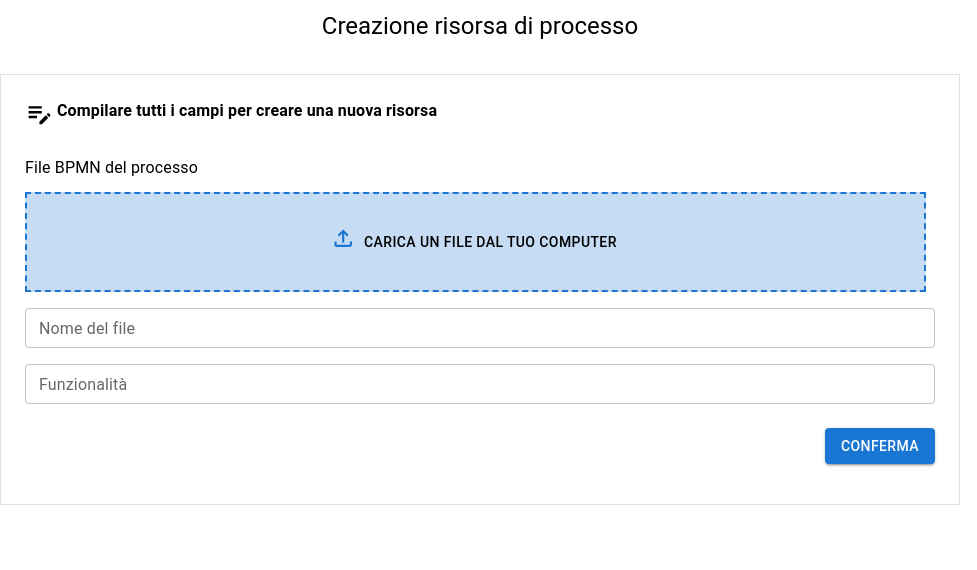
Scenario: CreateBpmn Test › should validate form and display errors when required fields are missing
Click the button "Conferma": (880,446) top-left (825, 428), bottom-right (935, 464)
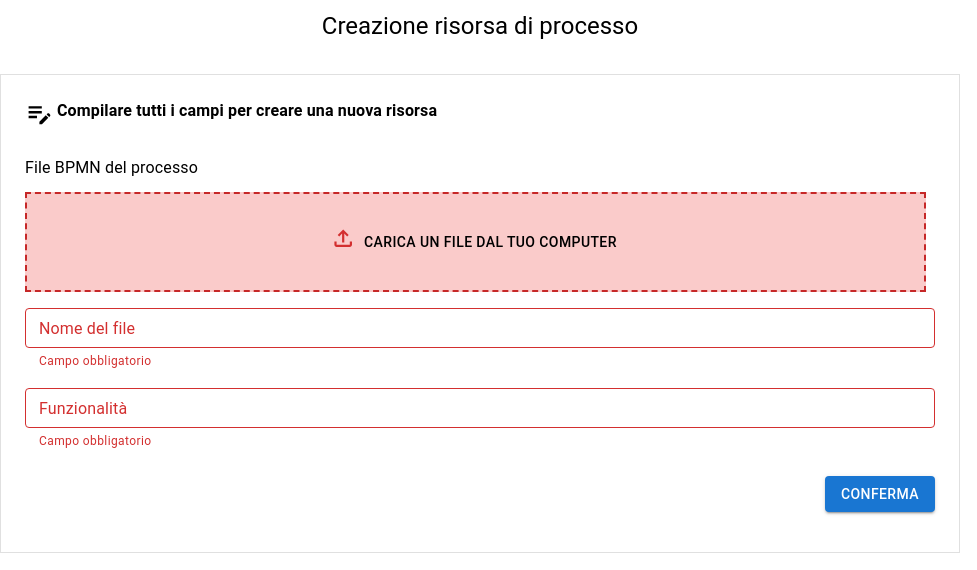
Expected: the text "Campo obbligatorio" is shown 2 times, top-left (39, 354), bottom-right (152, 368); top-left (39, 434), bottom-right (152, 448)
